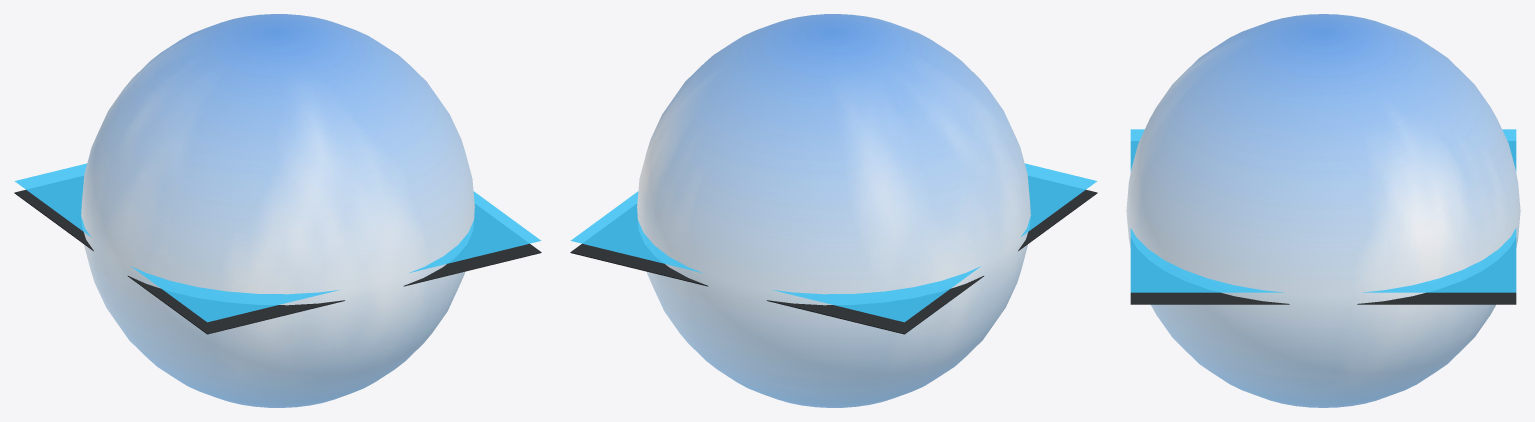
The model's file is training_ground_map_under25MB.glb.
3 views of the same model, side by side, from view 1: azimuth 30°, elevation 25°; view 2: azimuth 150°, elevation 25°; view 3: azimuth 270°, elevation 25° (orthographic).
Visible parts, largest first — view 1: Sky, Sea; view 2: Sky, Sea; view 3: Sky, Sea.
Boxes of the visible parts, x1=… form: Sky: x1=81, y1=14, x2=474, y2=407; Sea: x1=14, y1=163, x2=541, y2=334; Sky: x1=637, y1=14, x2=1030, y2=407; Sea: x1=570, y1=163, x2=1097, y2=334; Sky: x1=1126, y1=14, x2=1520, y2=407; Sea: x1=1130, y1=129, x2=1516, y2=304.
Bounding box in the file's own units: 470 × 470 × 470.
Materials: 36 (24 with a texture image).
